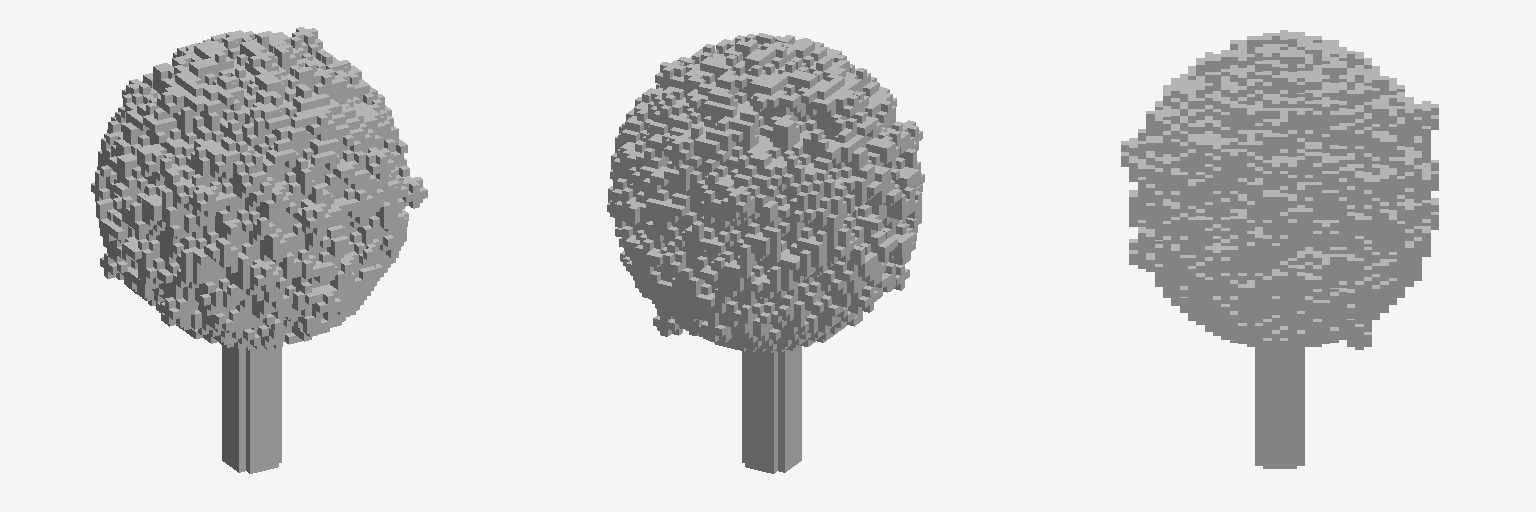
The model's file is Tree round fruit2.obj.
3 renders of one model, left to right at view 1: azimuth 30°, elevation 25°; view 2: azimuth 150°, elevation 25°; view 3: azimuth 270°, elevation 25°, orthographic.
Visible parts, largest first — view 1: object 1; view 2: object 1; view 3: object 1.
Boxes of the visible parts, box(x1,y1,x2,y2) form: object 1: box(91, 27, 427, 473); object 1: box(607, 33, 924, 473); object 1: box(1121, 30, 1438, 468).
Size of the model in its own units: 3.7 by 5.4 by 3.8.